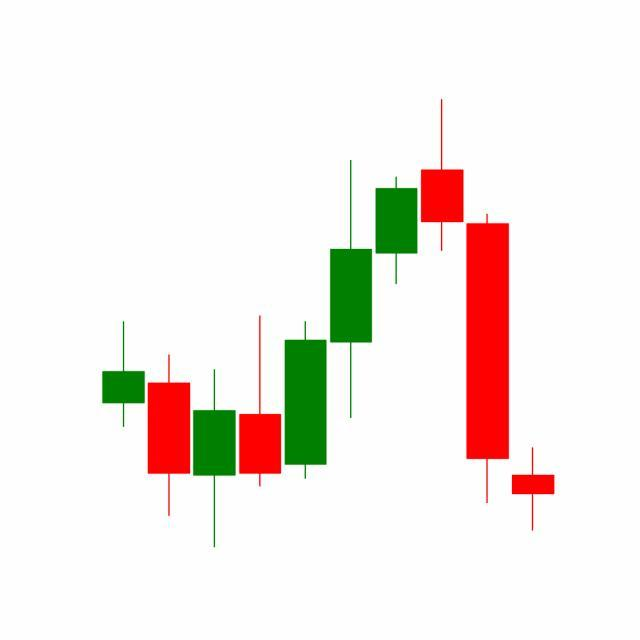Hikkake Pattern: (283, 99, 512, 508)
